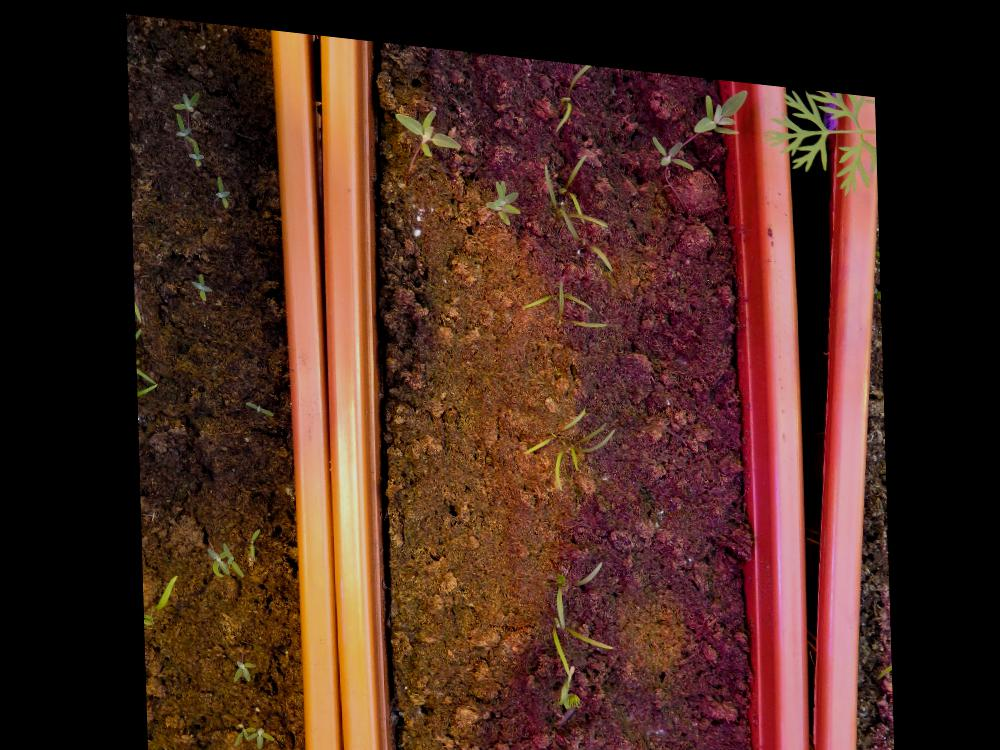weed: (393, 94, 462, 150), (691, 65, 750, 121), (651, 120, 695, 155), (171, 83, 201, 108), (189, 267, 214, 297), (211, 168, 232, 203), (227, 653, 254, 679), (242, 394, 274, 410), (247, 519, 260, 555)
